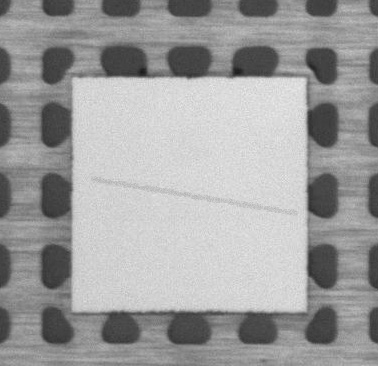DIE_CRACK: (96, 173, 305, 206)
